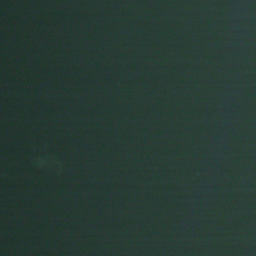con: (30, 141, 68, 181)
